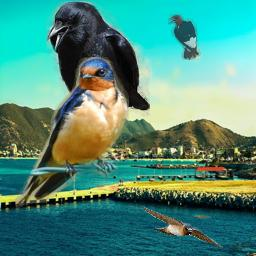Crow: (46, 1, 150, 147)
Swallow: (15, 57, 129, 207), (138, 204, 224, 248)
Woodpecker: (168, 13, 201, 60)
